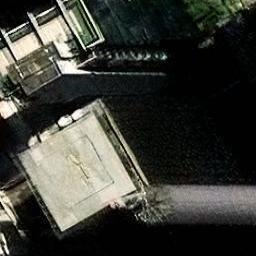heliponto: (35, 135, 115, 209)
